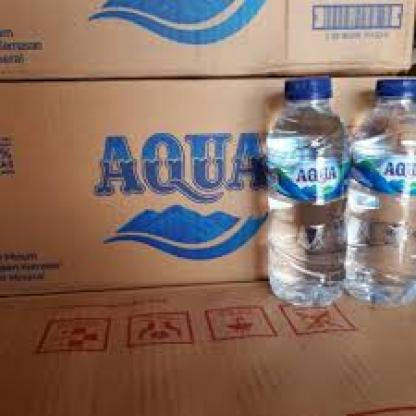Glass Bottle: (264, 73, 350, 311), (343, 79, 416, 312)
